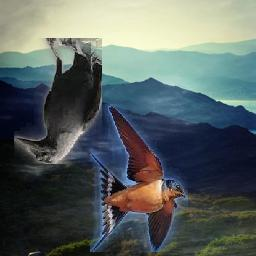Crow: (14, 38, 102, 164)
Swallow: (90, 104, 188, 252)
